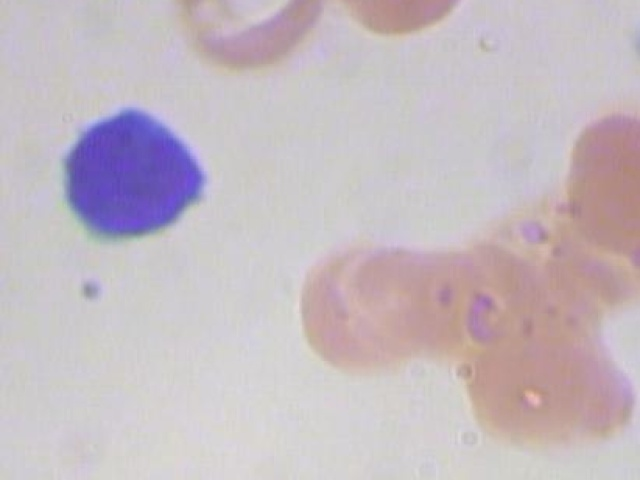Platelets: (632, 450, 640, 480)
RBC: (456, 305, 640, 463), (296, 227, 432, 372), (558, 97, 640, 280), (167, 0, 326, 81), (313, 0, 485, 35), (0, 0, 91, 12)
WBC: (37, 83, 229, 269)
